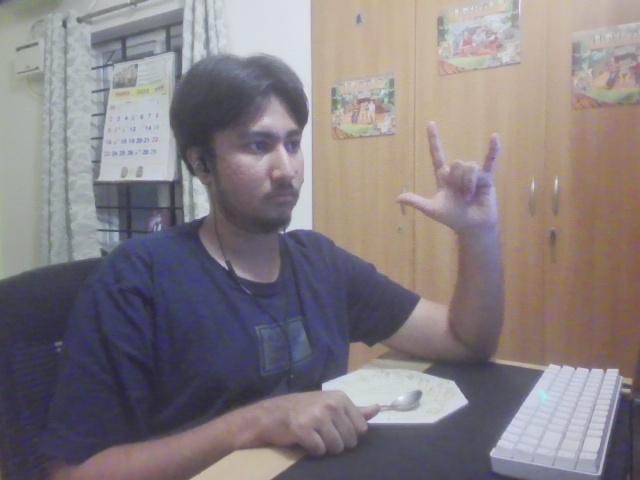iloveyou: (392, 120, 510, 249)
